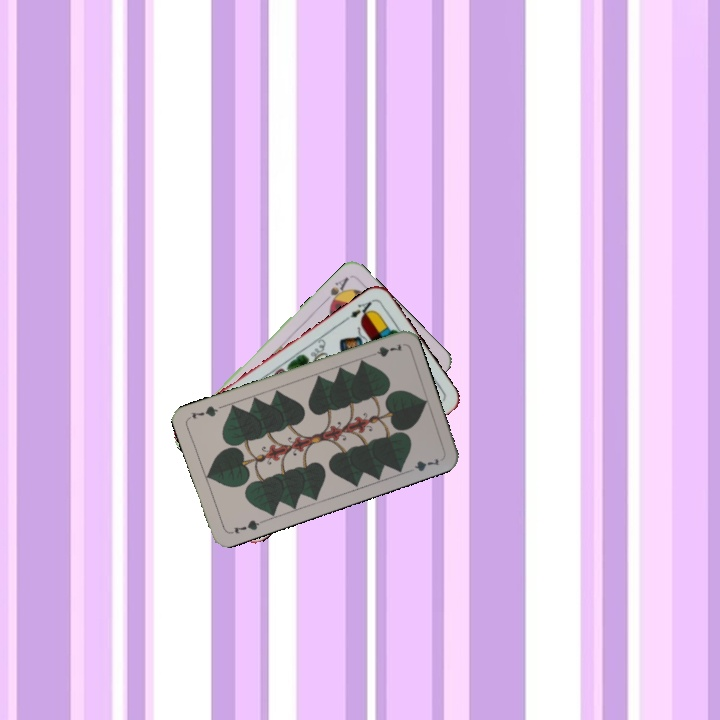EA: (340, 296, 376, 324)
G7: (364, 340, 405, 360), (226, 516, 265, 536)
SA: (325, 273, 351, 309)
